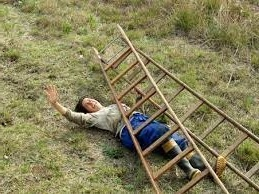fall: (35, 83, 231, 181)
